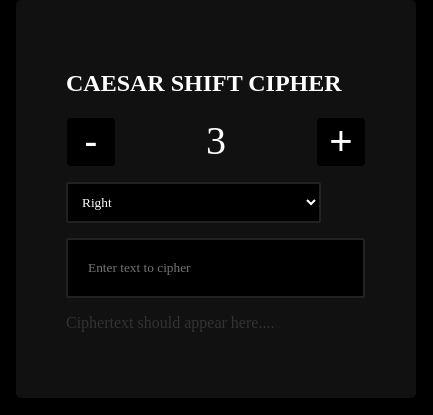
Scenario: CaesarCipher Component › updates ciphered text based on direction
This screenshot has width=433, height=415.
Type "HELLO" into the field with placeholder "Enter text to cipher" at (216, 268), box [66,238,365,298]
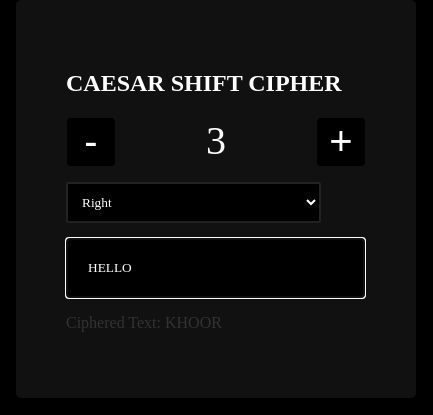
Select "Left" in the dropdown at (194, 202), box [66,182,321,223]
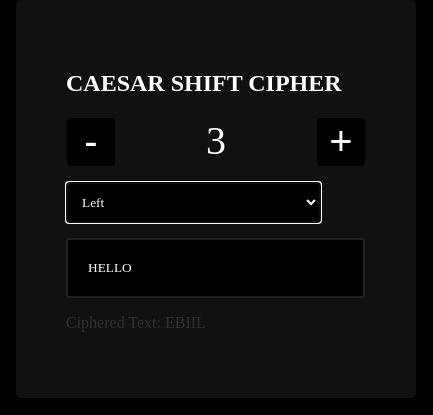
Check: the text "Ciphered Text: EBIIL" is shown, box [66,314,206,331]
